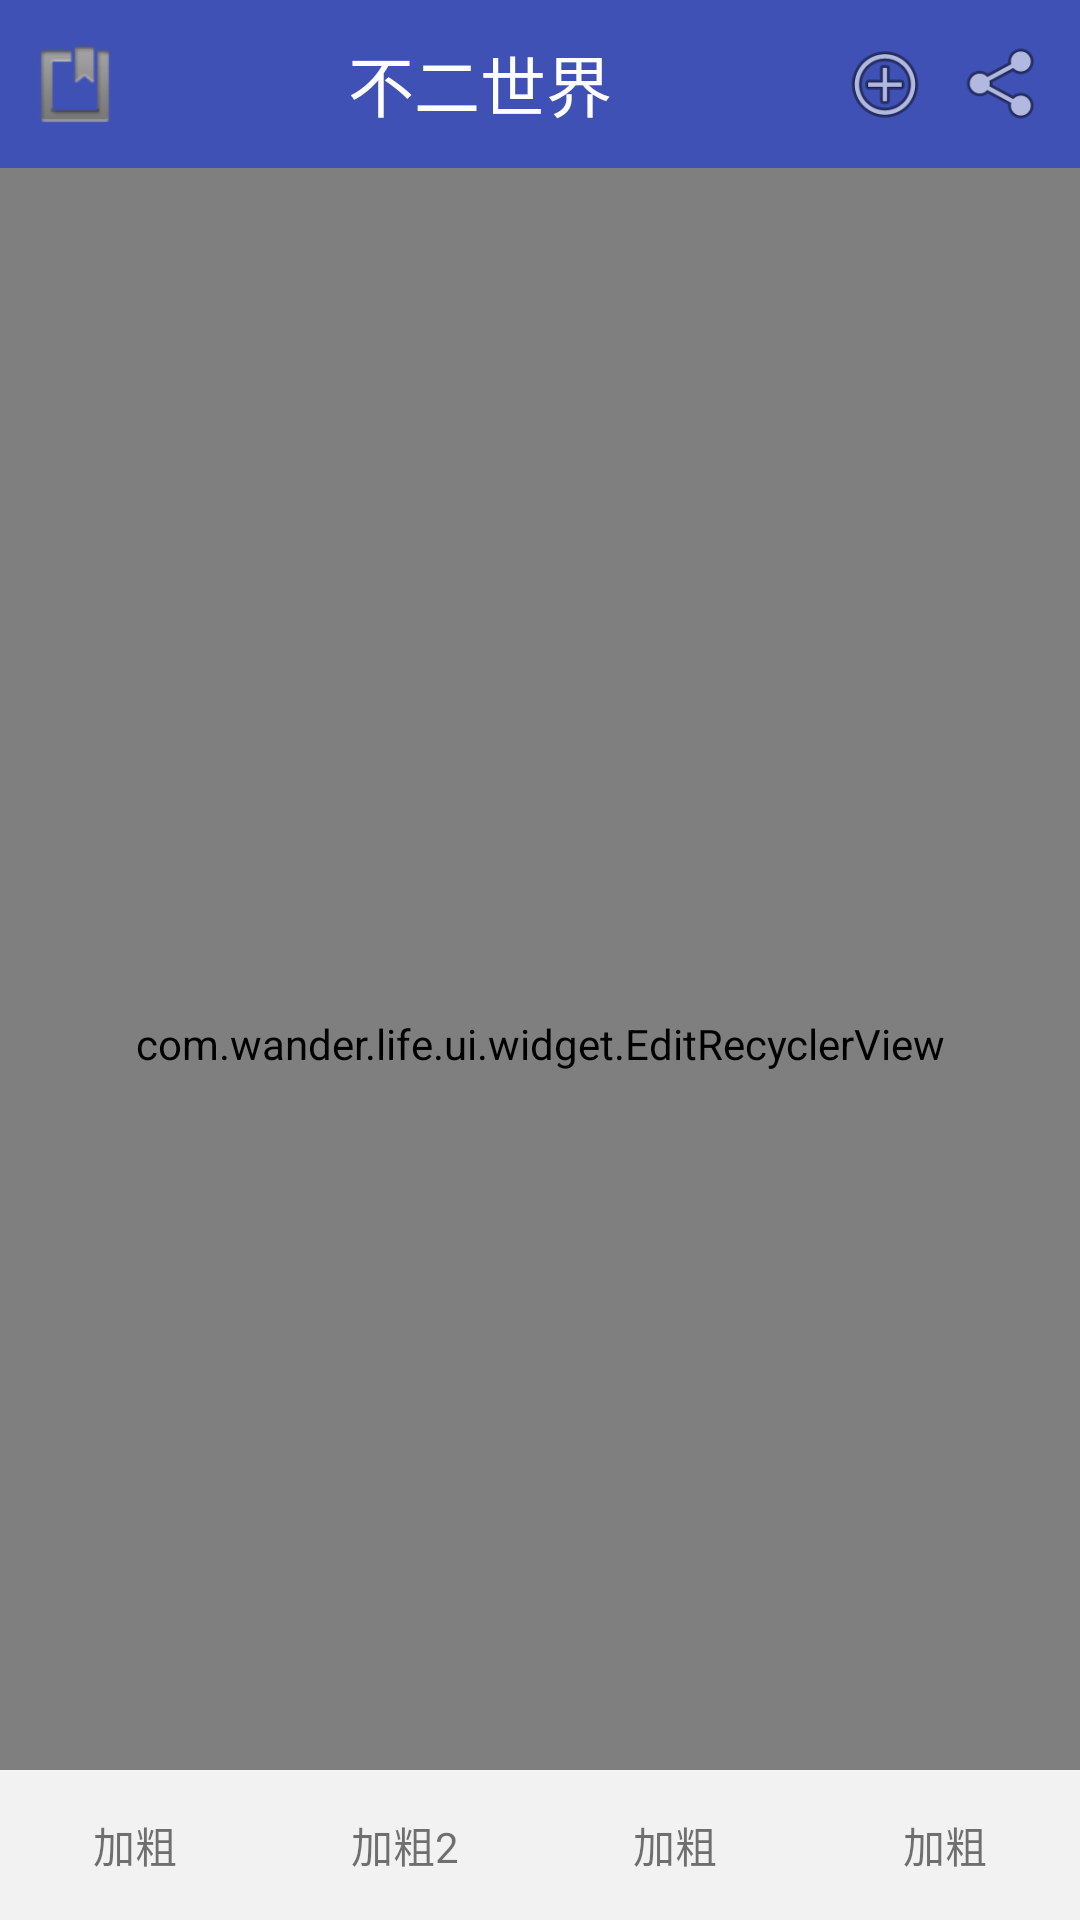

Icon bounding boxes for this 1080px×1920px phone screenshot, format (x1, y1, x2, y2):
add: (852, 51, 918, 118)
share: (967, 48, 1034, 119)
